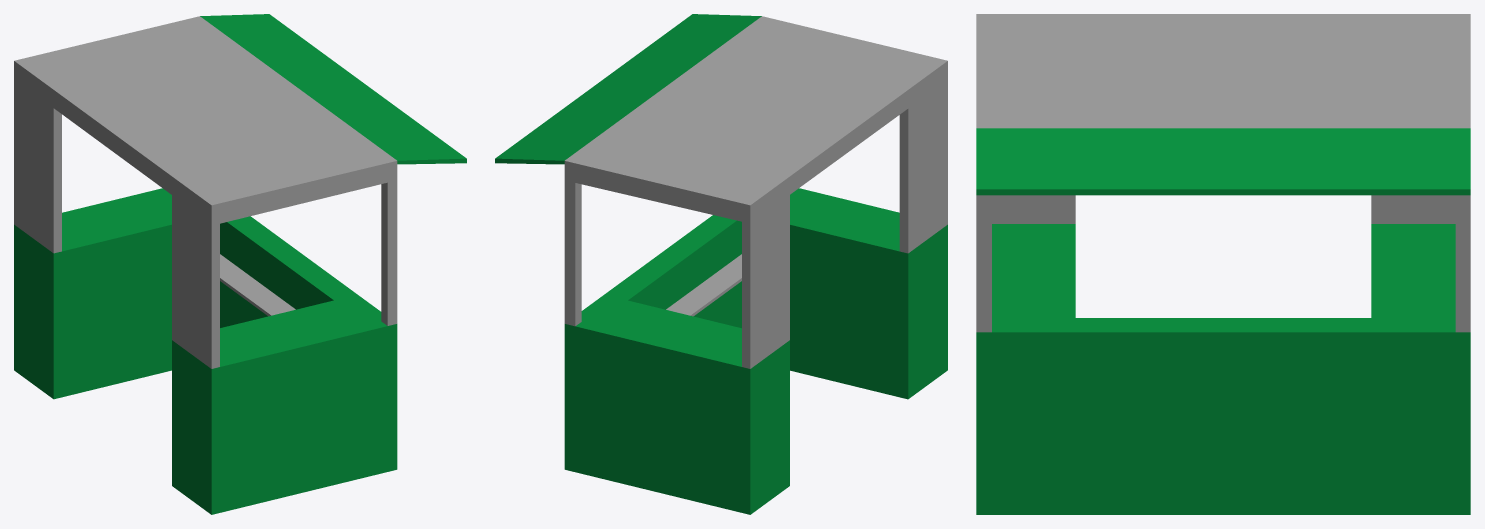
The model's file is StandA.fbx.
The picture shows the model from 3 angles, left to right: view 1: azimuth 30°, elevation 25°; view 2: azimuth 150°, elevation 25°; view 3: azimuth 270°, elevation 25°; orthographic projection. The views are drawn at different scales.
Visible parts, largest first — view 1: Stand; view 2: Stand; view 3: Stand.
Part boxes in pixels (left/top/right/bottom): Stand: left=14, top=14, right=466, bottom=514; Stand: left=495, top=14, right=947, bottom=514; Stand: left=976, top=14, right=1470, bottom=514.
Bounding box in the file's own units: 259 × 300 × 347.
